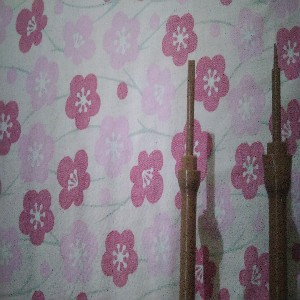obeng: (176, 59, 202, 300)
solder: (261, 42, 294, 300)
